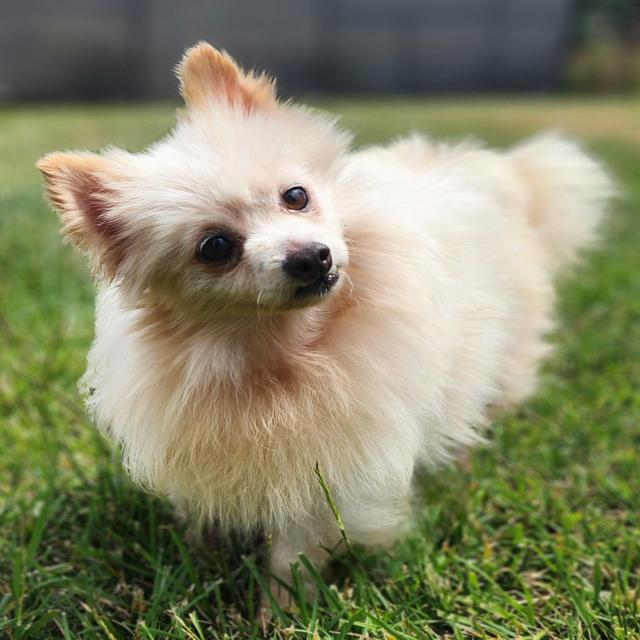pomeranian_dog: (29, 37, 397, 370)
